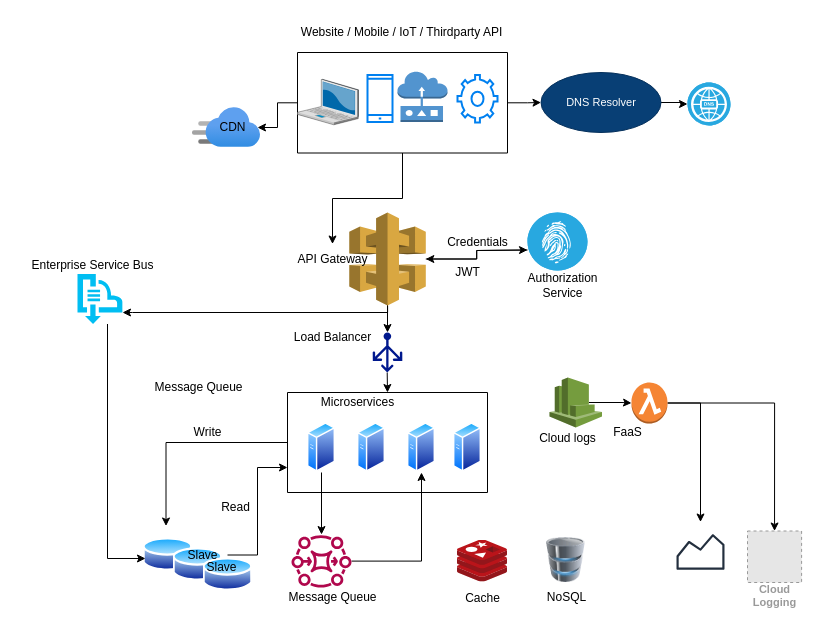
Some shapes in this 819 by 630 pixel diagram are drawn without their labels. Grey dashed boxes stand in for pictures. Each missing label, with the box of its shape:
Master: (142, 536, 192, 572)
Monitoring: (670, 521, 730, 582)
